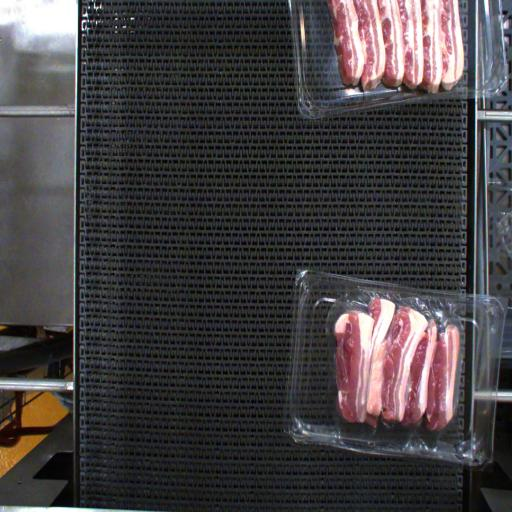unsealed: (312, 280, 489, 456)
